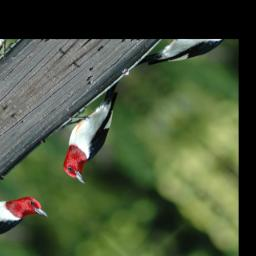Woodpecker: (33, 71, 162, 188)
